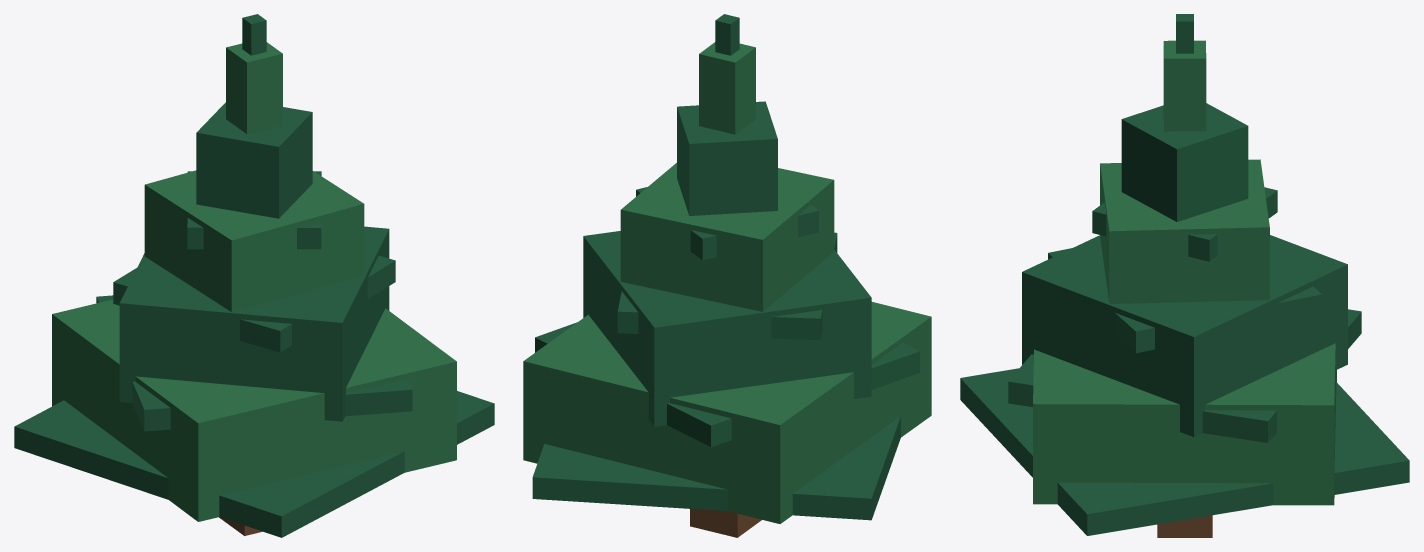
The model's file is A02_spruce_medium.obj.
The picture shows the model from 3 angles, left to right: view 1: azimuth 30°, elevation 25°; view 2: azimuth 150°, elevation 25°; view 3: azimuth 270°, elevation 25°; orthographic projection.
Parts seen in each view (by area): view 1: A02_spruce_medium; view 2: A02_spruce_medium; view 3: A02_spruce_medium.
Boxes of the visible parts, x1,y1,x2,y2 form: A02_spruce_medium: [14, 14, 494, 537]; A02_spruce_medium: [523, 14, 931, 537]; A02_spruce_medium: [960, 14, 1409, 537].
Bounding box in the file's own units: 4.47 × 5.59 × 4.47.
